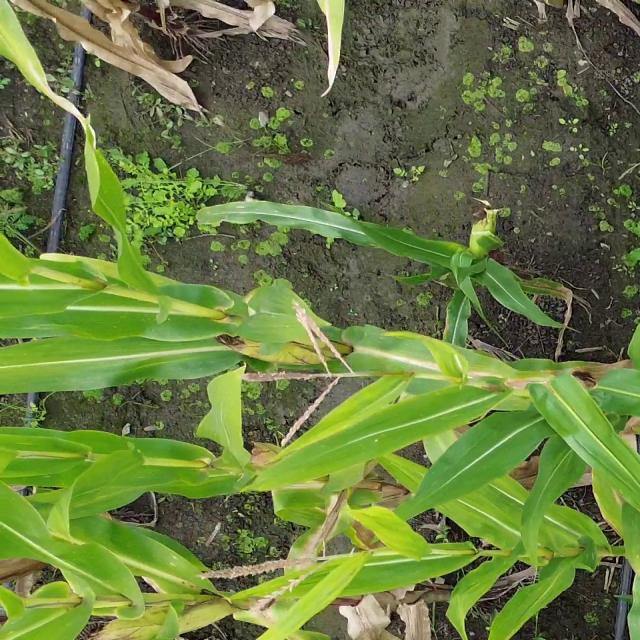gray-leaf-spot: (204, 198, 289, 220)
northern-leaf-blight: (411, 350, 536, 395), (298, 500, 345, 560), (263, 469, 332, 509)
